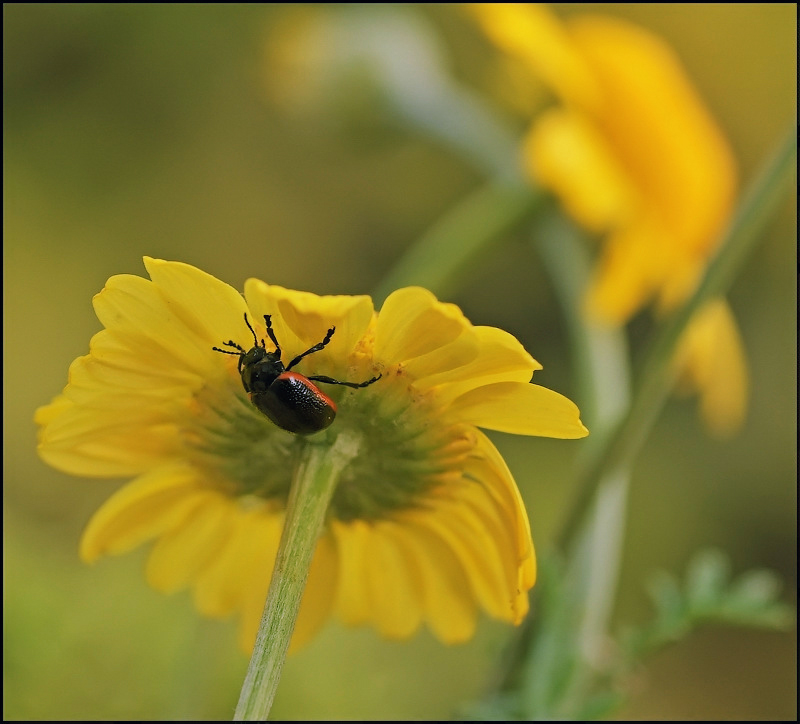Chrysolina_gypsophila: (204, 310, 385, 435)
